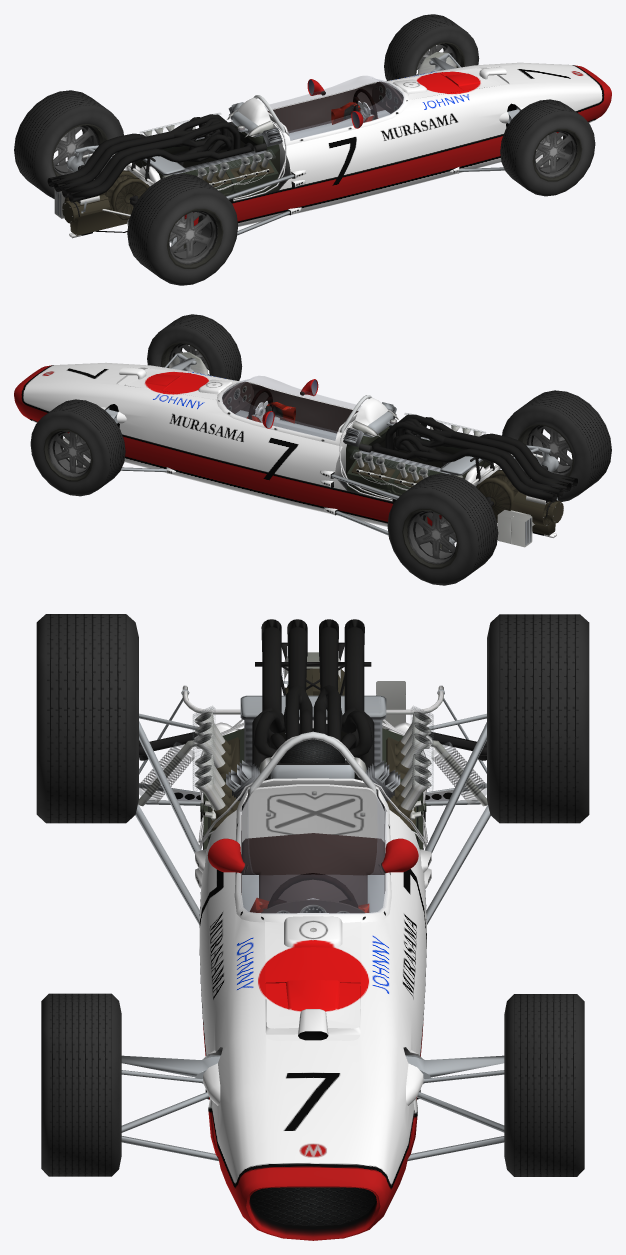
File: sd-67gp-murasama-37a.glb
The picture shows the model from 3 angles, top to bottom: view 1: azimuth 30°, elevation 25°; view 2: azimuth 150°, elevation 25°; view 3: azimuth 270°, elevation 25°; orthographic projection. The views are drawn at different scales.
Visible parts, largest first — view 1: paint_2, detail_1, Tire_RearRight_14, Tire_RearLeft_12, Tire_FrontRight_10, Tire_FrontLeft_8, glass_0, Rim_RearRight_15, Rim_FrontRight_11, Rim_RearLeft_13, detail_3, Rim_FrontLeft_9 (+1 smaller); view 2: paint_2, detail_1, Tire_RearLeft_12, Tire_RearRight_14, Tire_FrontLeft_8, Tire_FrontRight_10, glass_0, Rim_RearLeft_13, Rim_FrontLeft_9, Rim_RearRight_15, detail_3, Rim_FrontRight_11 (+1 smaller); view 3: detail_1, paint_2, Tire_RearRight_14, Tire_RearLeft_12, Tire_FrontRight_10, Tire_FrontLeft_8, glass_0, detail_3, gp_steering_STWOUTER_s_0_4.
Boxes of the visible parts, <box> form: paint_2: <box>169,62,611,242</box>; detail_1: <box>47,52,562,251</box>; Tire_RearRight_14: <box>127,173,238,285</box>; Tire_RearLeft_12: <box>14,90,123,198</box>; Tire_FrontRight_10: <box>500,99,595,196</box>; Tire_FrontLeft_8: <box>384,14,479,80</box>; glass_0: <box>140,76,404,218</box>; Rim_RearRight_15: <box>166,208,223,268</box>; Rim_FrontRight_11: <box>532,128,582,181</box>; Rim_RearLeft_13: <box>52,124,107,176</box>; detail_3: <box>372,81,402,113</box>; Rim_FrontLeft_9: <box>415,42,465,75</box>; paint_2: <box>14,362,456,542</box>; detail_1: <box>63,352,577,551</box>; Tire_RearLeft_12: <box>387,473,498,585</box>; Tire_RearRight_14: <box>502,390,611,501</box>; Tire_FrontLeft_8: <box>30,399,125,496</box>; Tire_FrontRight_10: <box>147,314,242,380</box>; glass_0: <box>221,376,485,518</box>; Rim_RearLeft_13: <box>402,508,458,568</box>; Rim_FrontLeft_9: <box>43,428,93,481</box>; Rim_RearRight_15: <box>518,424,573,476</box>; detail_3: <box>223,381,274,416</box>; Rim_FrontRight_11: <box>161,342,210,375</box>; detail_1: <box>121,619,504,1226</box>; paint_2: <box>199,810,426,1240</box>; Tire_RearRight_14: <box>36,614,138,823</box>; Tire_RearLeft_12: <box>487,614,589,823</box>; Tire_FrontRight_10: <box>41,993,121,1176</box>; Tire_FrontLeft_8: <box>504,994,584,1176</box>; glass_0: <box>139,706,486,913</box>; detail_3: <box>261,899,364,913</box>; gp_steering_STWOUTER_s_0_4: <box>267,873,358,908</box>.
Bounding box in the file's own units: 4.02 × 0.7624 × 1.79.
Materials: 6 (6 with a texture image).
